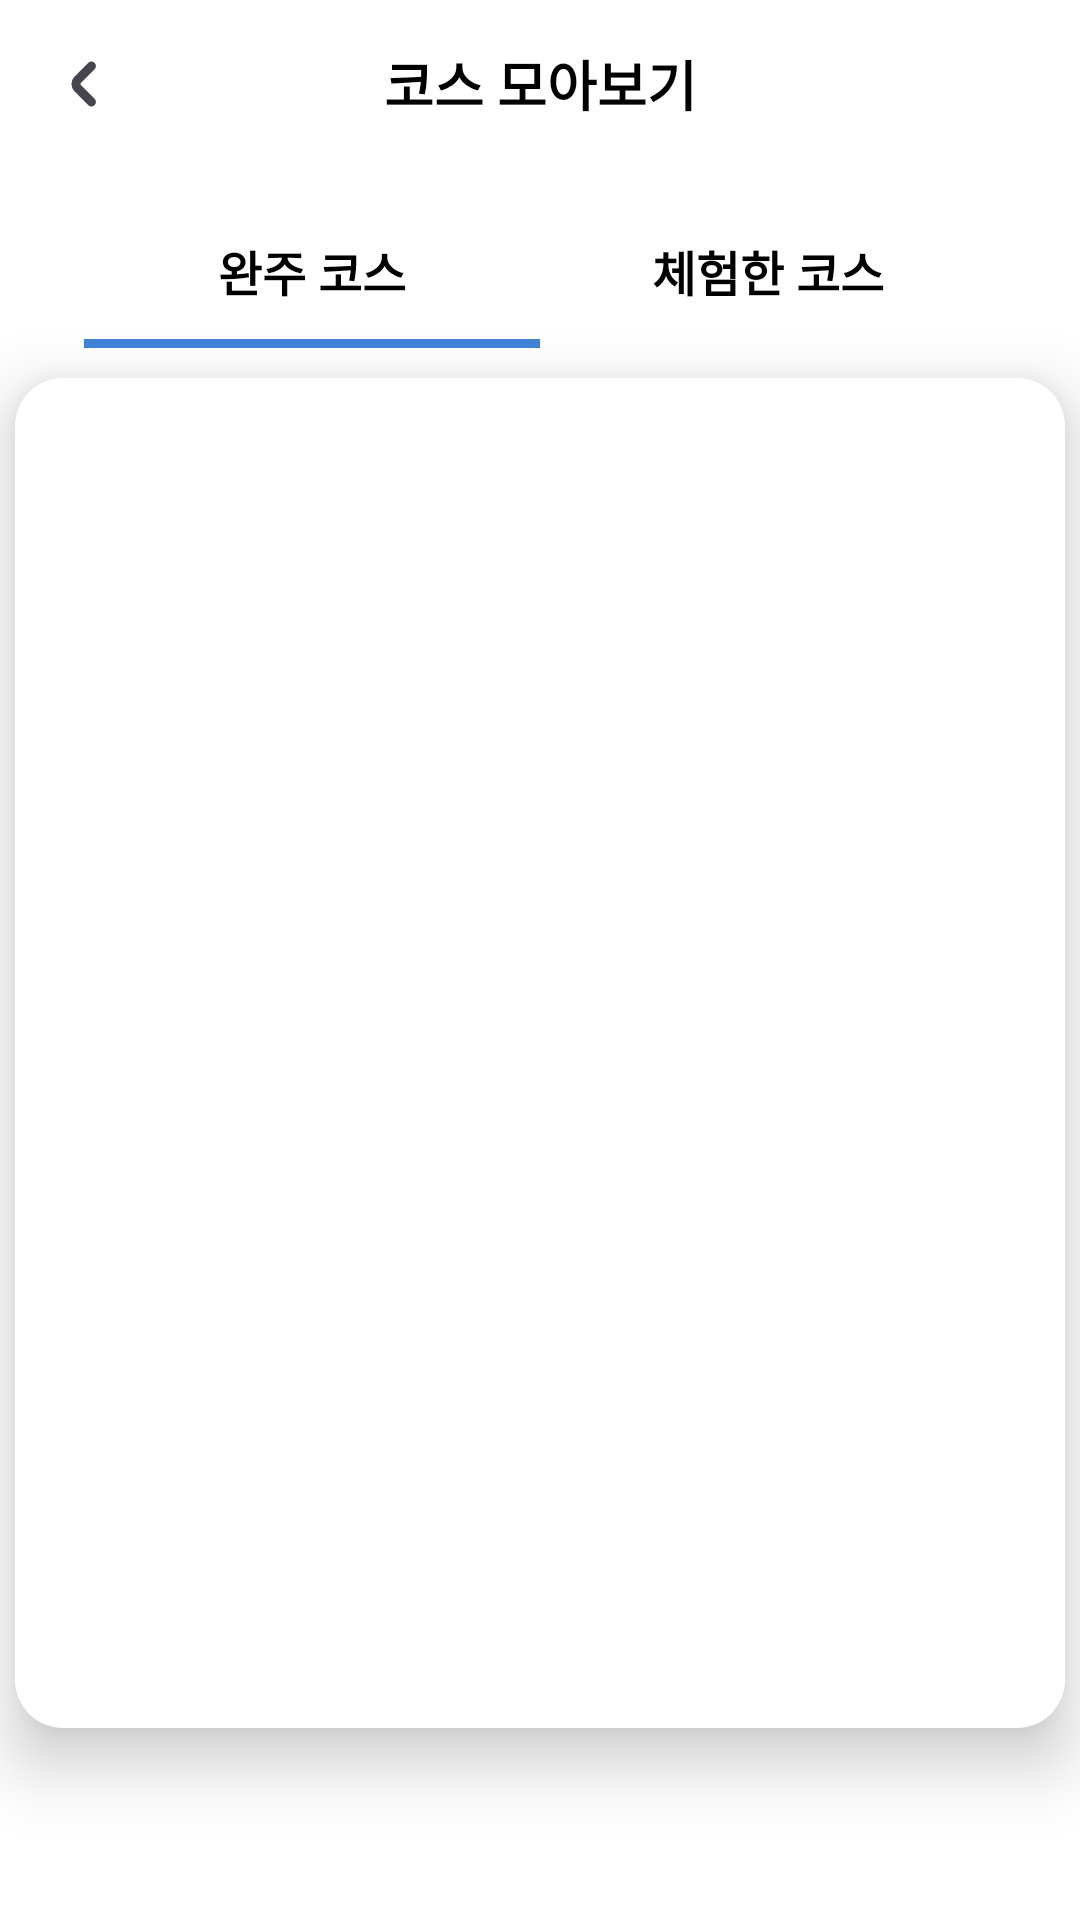

Locate icon controls on the screen. Image size 1080*1920, boxes as (left=x1, top=y1, right=x2, bottom=y2).
back: (left=71, top=61, right=96, bottom=107)
